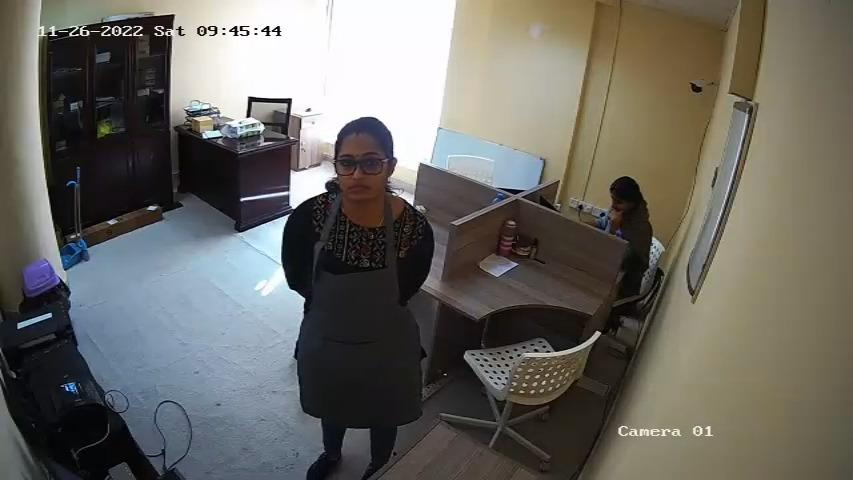apron: (306, 201, 413, 421)
